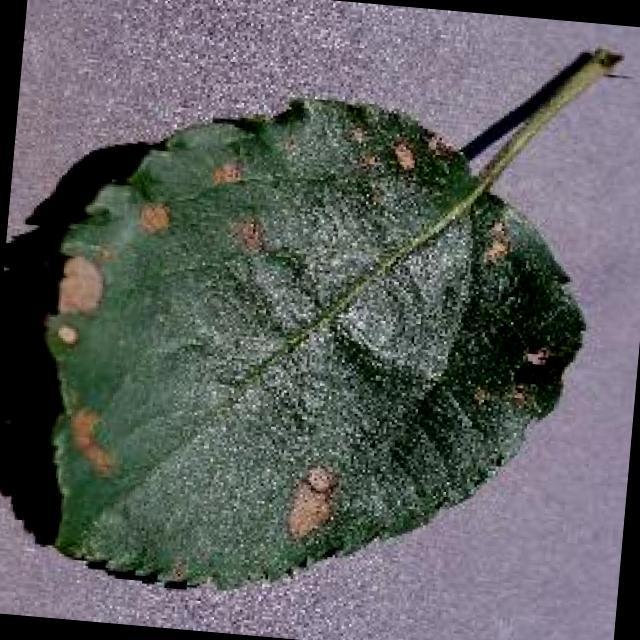leaf_spot: (47, 103, 583, 584)
